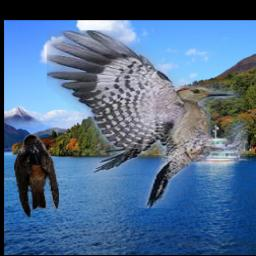Swallow: (14, 135, 60, 218)
Woodpecker: (47, 30, 248, 208)
